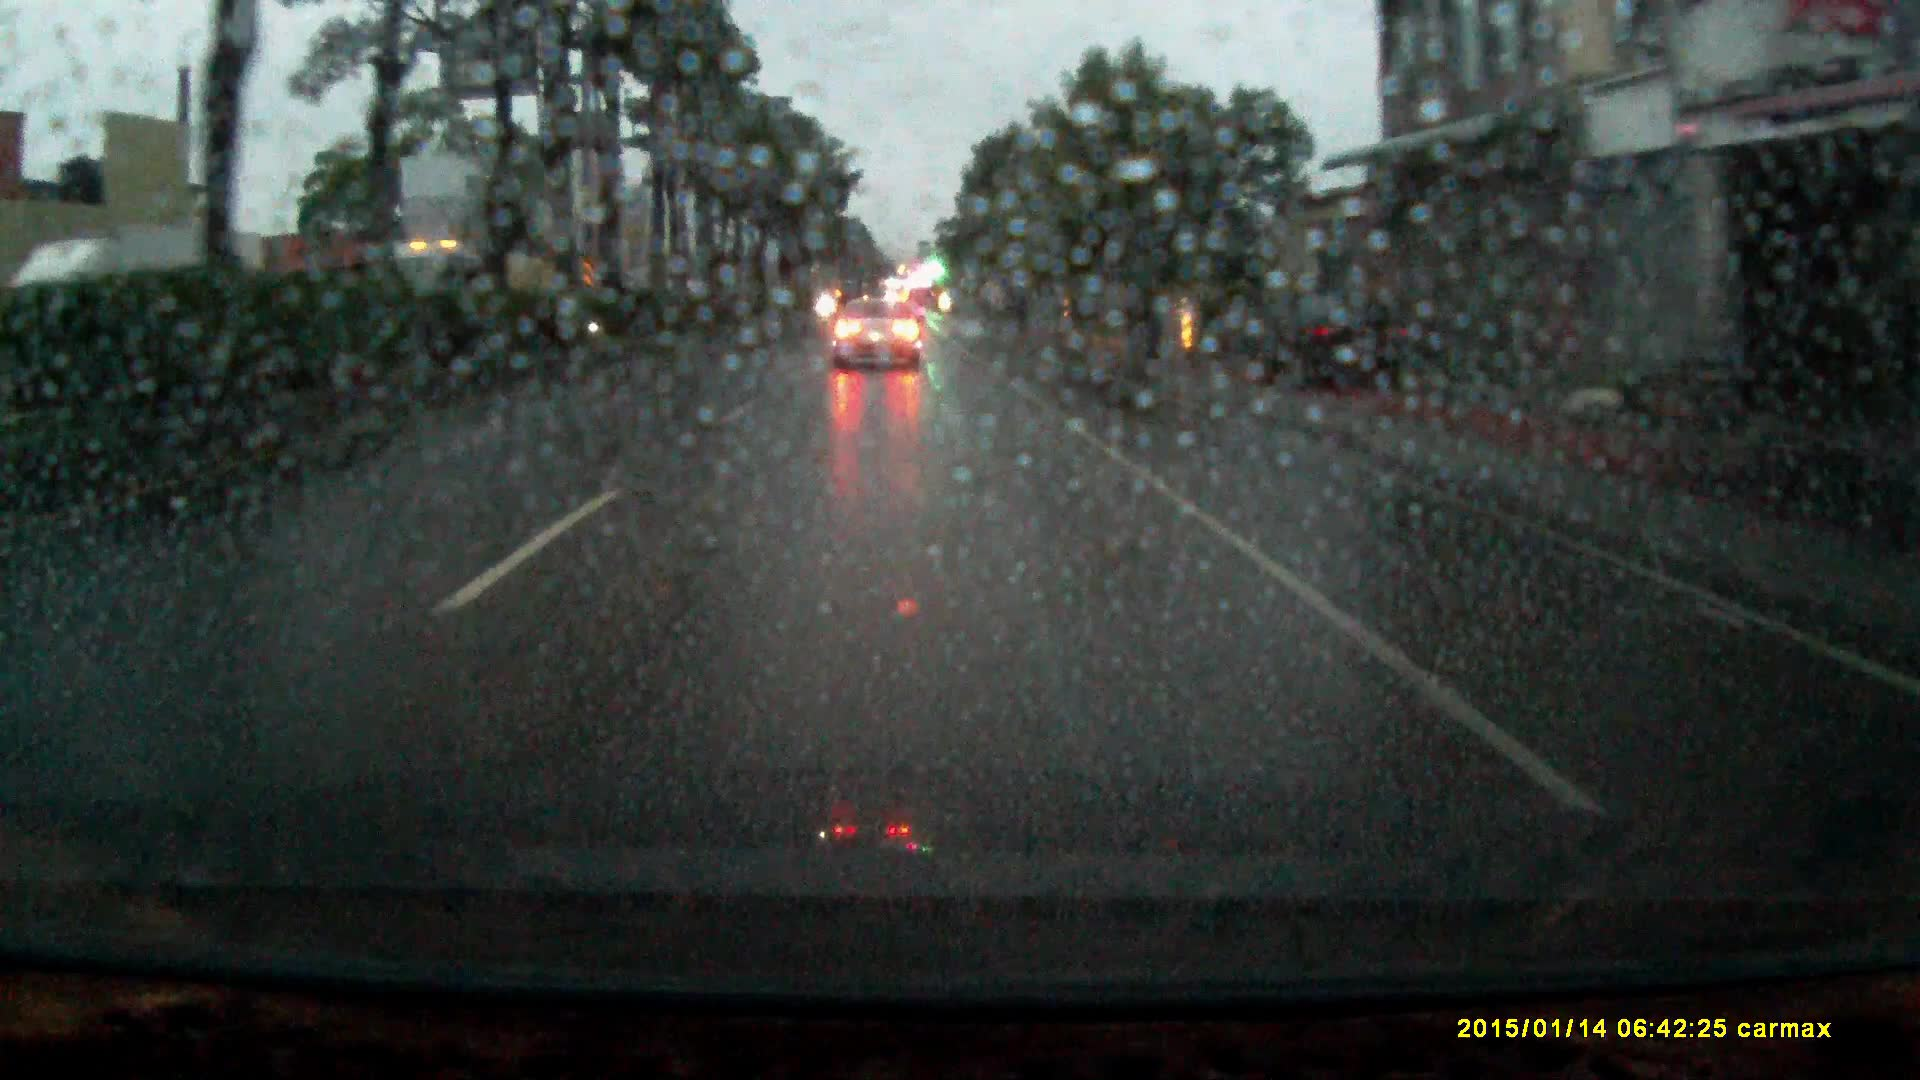vehicle: (1, 244, 199, 392), (361, 236, 558, 338), (1261, 294, 1411, 386), (829, 301, 926, 373)
